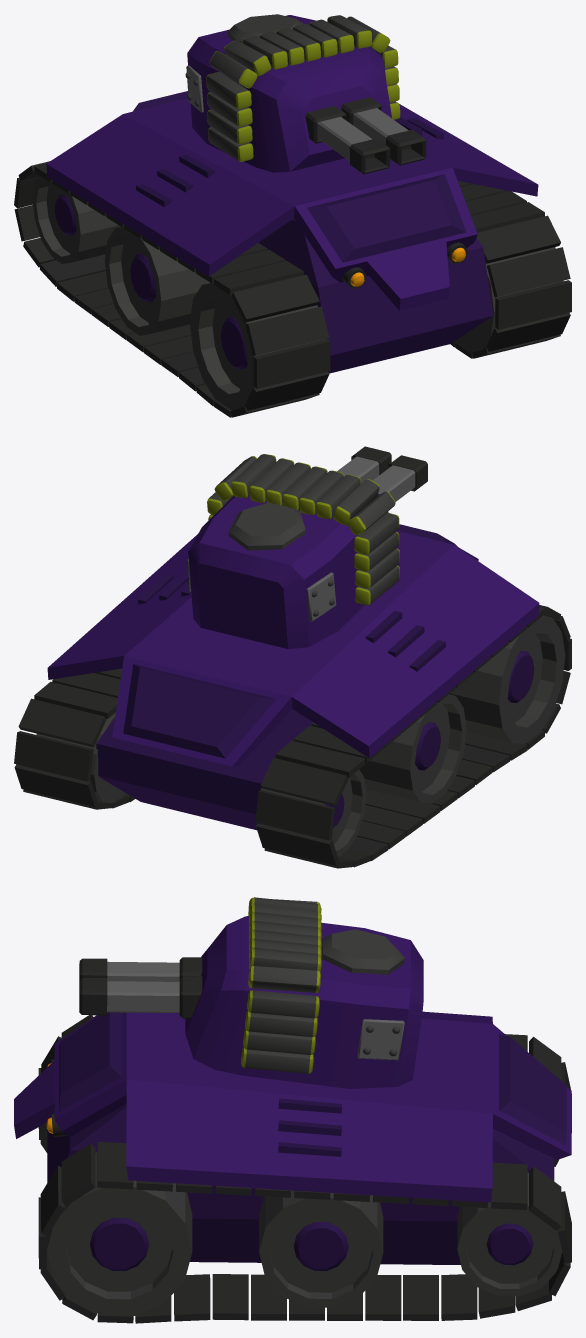
Rendered from Танк2.1.fbx.
The picture shows the model from 3 angles, top to bottom: view 1: azimuth 30°, elevation 25°; view 2: azimuth 150°, elevation 25°; view 3: azimuth 270°, elevation 25°; orthographic projection. The views are drawn at different scales.
Visible parts, largest first — view 1: Cylinder.002, Cylinder.015; view 2: Cylinder.002, Cylinder.015; view 3: Cylinder.002, Cylinder.015.
Boxes of the visible parts, x1,y1,x2,y2 form: Cylinder.002: (14, 91, 571, 417); Cylinder.015: (185, 14, 426, 174); Cylinder.002: (14, 524, 571, 868); Cylinder.015: (186, 446, 427, 648); Cylinder.002: (14, 1011, 571, 1323); Cylinder.015: (79, 897, 423, 1088).
Bounding box in the file's own units: 505 × 419 × 677.
